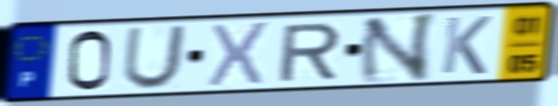0: (66, 28, 113, 93)
K: (438, 14, 495, 76)
N: (355, 10, 440, 86)
R: (275, 20, 344, 84)
U: (119, 23, 190, 92)
X: (204, 19, 272, 89)
